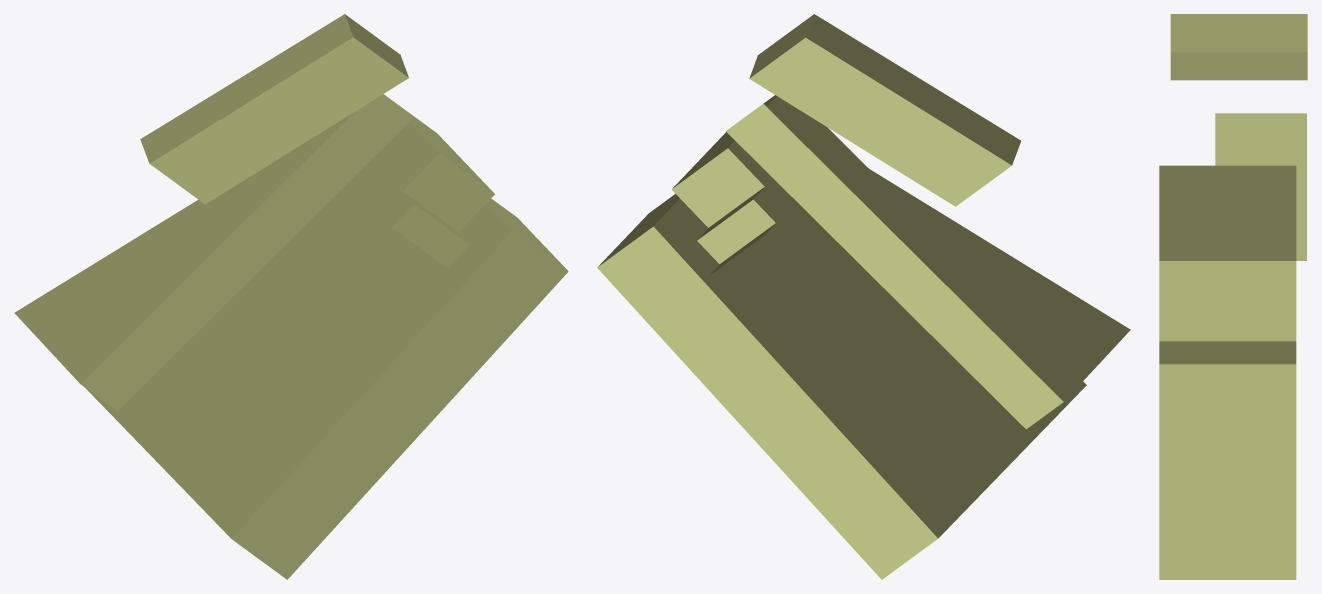
3 views of the same model, side by side, from view 1: azimuth 30°, elevation 25°; view 2: azimuth 150°, elevation 25°; view 3: azimuth 270°, elevation 25° (orthographic). The views are drawn at different scales.
Parts seen in each view (by area): view 1: 0_1_2_3_0_0_0_0; view 2: 0_1_2_3_0_0_0_0; view 3: 0_1_2_3_0_0_0_0.
Boxes of the visible parts, left/top/right/bottom form: 0_1_2_3_0_0_0_0: left=14, top=14, right=568, bottom=579; 0_1_2_3_0_0_0_0: left=597, top=14, right=1130, bottom=579; 0_1_2_3_0_0_0_0: left=1159, top=14, right=1307, bottom=579.
Bounding box in the file's own units: 46.09 × 43.91 × 9.75.
